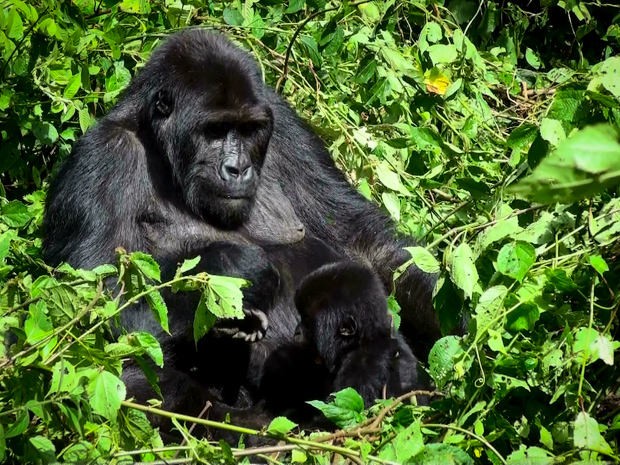Goriila: (55, 34, 492, 465)
